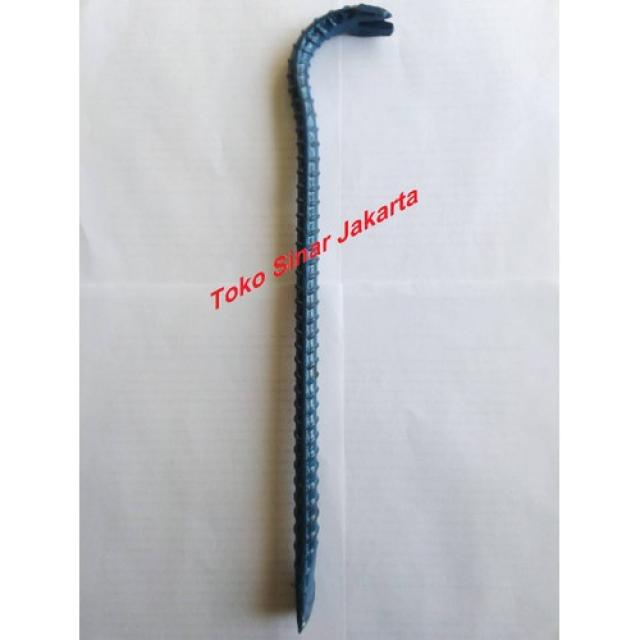Linggis: (292, 4, 397, 630)
